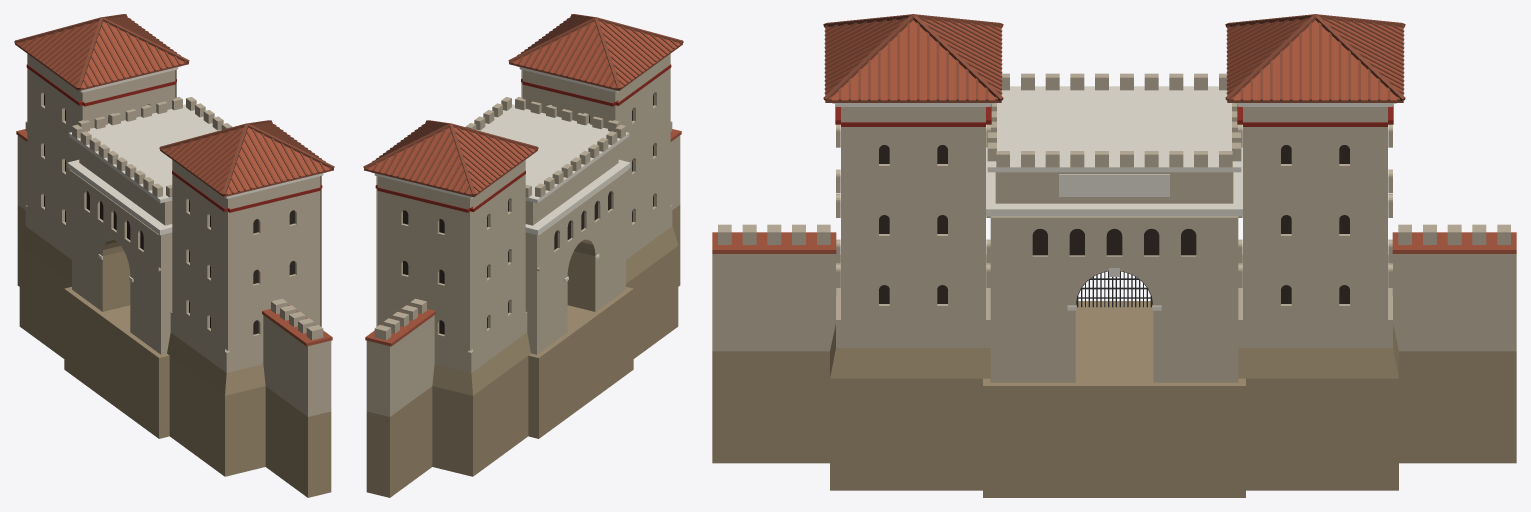
Rendered from ant_gate.glb.
The picture shows the model from 3 angles, left to right: view 1: azimuth 30°, elevation 25°; view 2: azimuth 150°, elevation 25°; view 3: azimuth 270°, elevation 25°; orthographic projection. The views are drawn at different scales.
Visible parts, largest first — view 1: ant_gate; view 2: ant_gate; view 3: ant_gate.
Part boxes in pixels (x1=…): ant_gate: x1=14, y1=14, x2=334, y2=497; ant_gate: x1=363, y1=14, x2=683, y2=497; ant_gate: x1=712, y1=14, x2=1516, y2=497.
Bounding box in the file's own units: 13 × 31.44 × 52.
